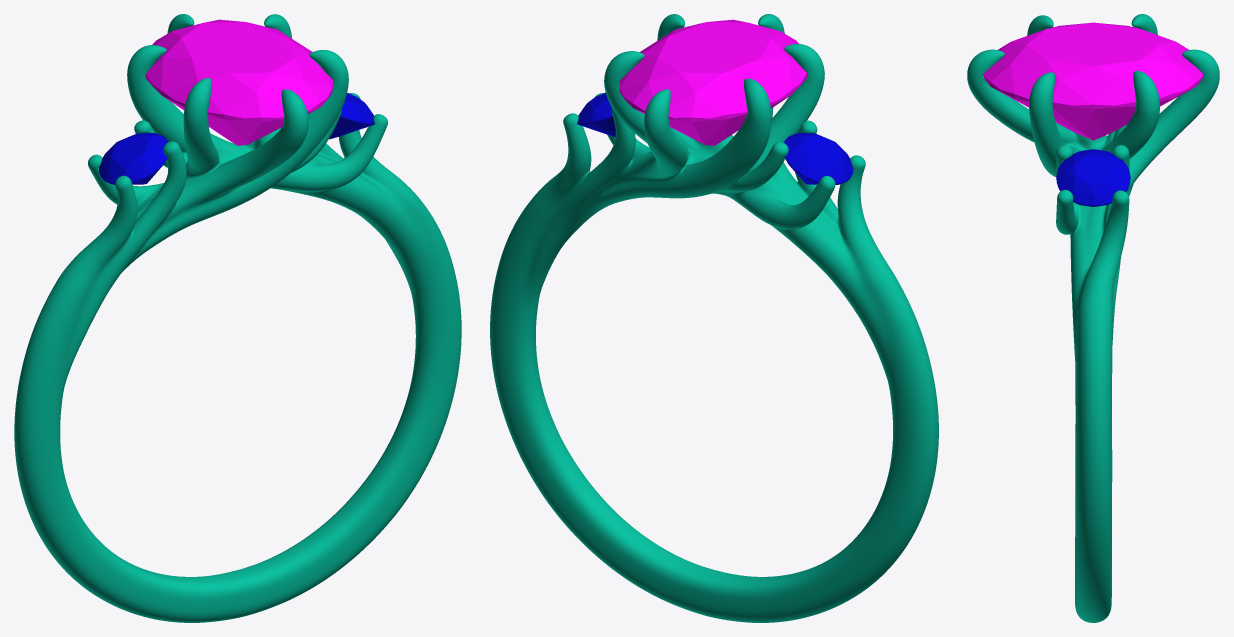
File: BE1D2420_OV_200ct_RENDER.glb
3 renders of one model, left to right at view 1: azimuth 30°, elevation 25°; view 2: azimuth 150°, elevation 25°; view 3: azimuth 270°, elevation 25°, orthographic. The views are drawn at different scales.
Parts seen in each view (by area): view 1: Metal 01, CS_Diamond_Oval, Diamond_Round_side.001, Diamond_Round_side; view 2: Metal 01, CS_Diamond_Oval, Diamond_Round_side.001, Diamond_Round_side; view 3: Metal 01, CS_Diamond_Oval, Diamond_Round_side.
Part boxes in pixels (x1,y1,x2,y2): Metal 01: (14, 14, 461, 622); CS_Diamond_Oval: (145, 19, 333, 145); Diamond_Round_side.001: (99, 133, 167, 184); Diamond_Round_side: (329, 93, 374, 139); Metal 01: (490, 14, 938, 622); CS_Diamond_Oval: (619, 19, 807, 145); Diamond_Round_side.001: (783, 133, 853, 184); Diamond_Round_side: (577, 92, 615, 137); Metal 01: (967, 14, 1219, 622); CS_Diamond_Oval: (983, 22, 1203, 140); Diamond_Round_side: (1056, 149, 1130, 206).
Bounding box in the file's own units: 20.27 × 24.78 × 10.22.
